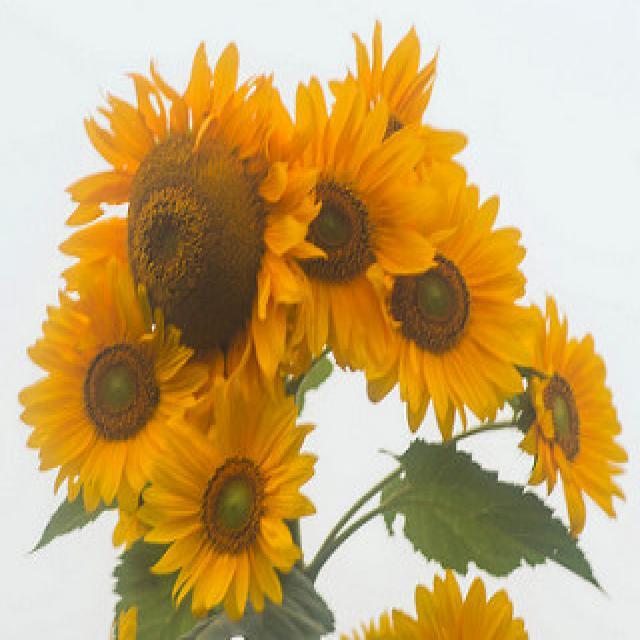sunflower: (54, 24, 292, 406), (258, 66, 438, 382), (352, 167, 540, 440), (142, 373, 324, 621), (16, 279, 200, 515), (520, 290, 630, 538), (327, 10, 469, 170)
